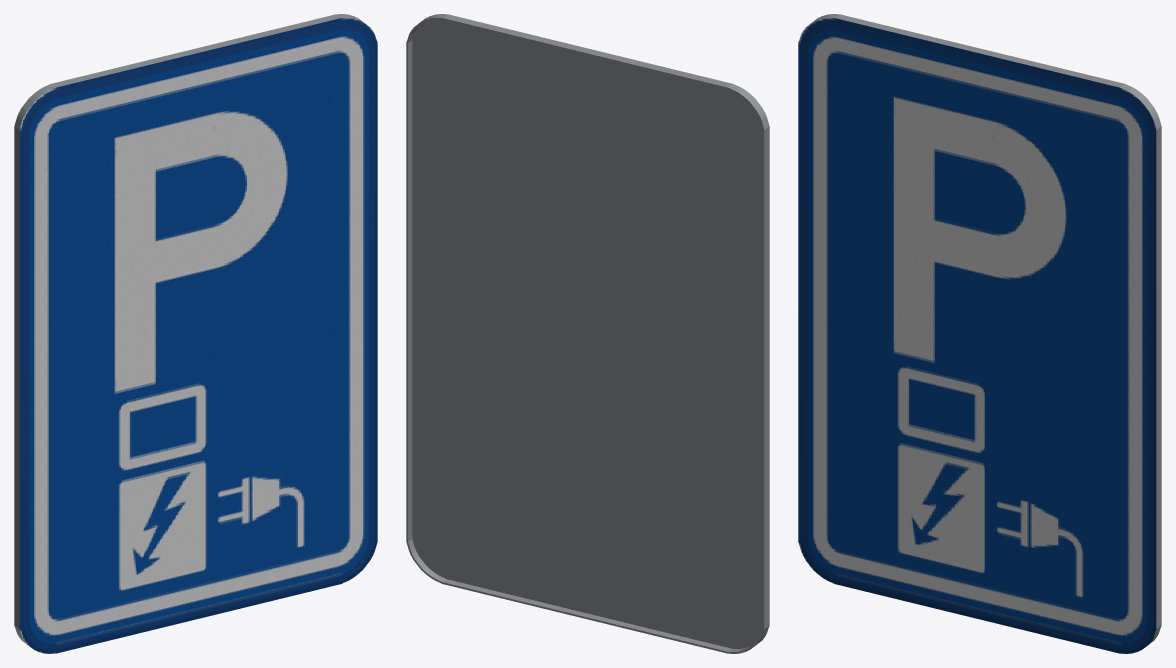
The picture shows the model from 3 angles, left to right: view 1: azimuth 30°, elevation 25°; view 2: azimuth 150°, elevation 25°; view 3: azimuth 330°, elevation 25°; orthographic projection.
Parts seen in each view (by area): view 1: cat_de5a4592642ffef8; view 2: cat_de5a4592642ffef8; view 3: cat_de5a4592642ffef8.
Boxes of the visible parts, x1=… form: cat_de5a4592642ffef8: x1=14, y1=14, x2=377, y2=653; cat_de5a4592642ffef8: x1=406, y1=14, x2=769, y2=653; cat_de5a4592642ffef8: x1=798, y1=14, x2=1161, y2=653.
Size of the model in its own units: 0.6 by 0.015 by 0.9061.
Materials: 2 (1 with a texture image).
